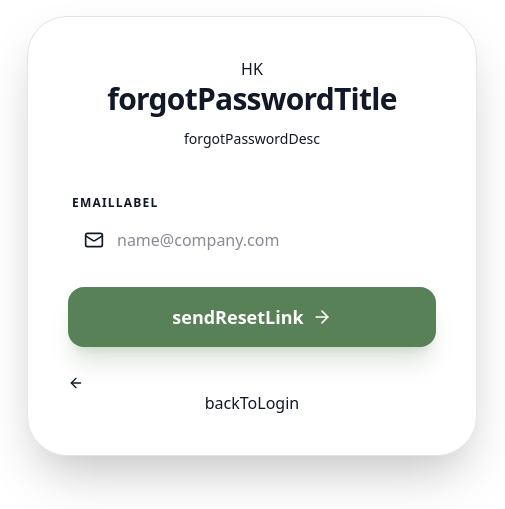
Test case: ForgotPasswordPage › submits forgot password request successfully
Type "user@example.com" into the field labelled "emailLabel".
click(252, 240); type("user@example.com")  # box left=68, top=213, right=436, bottom=267
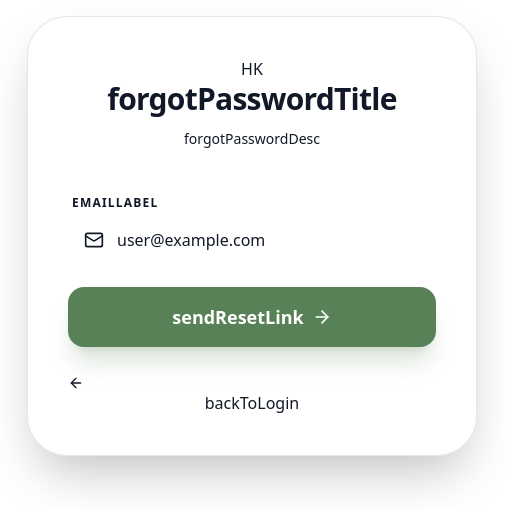
Click the button "sendResetLink".
click(252, 317)  # box left=68, top=287, right=436, bottom=347
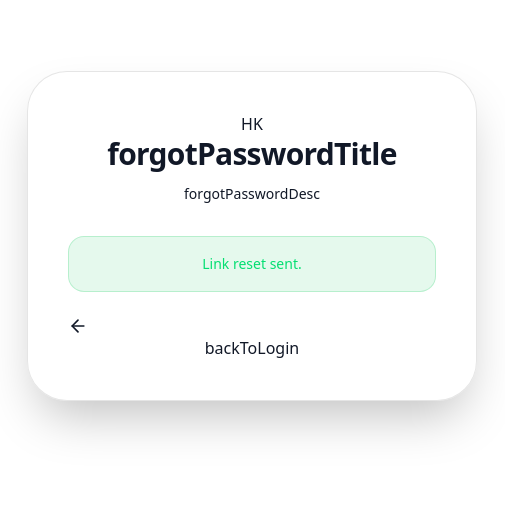
Result: the text "Link reset sent." is shown at left=68, top=236, right=436, bottom=292
